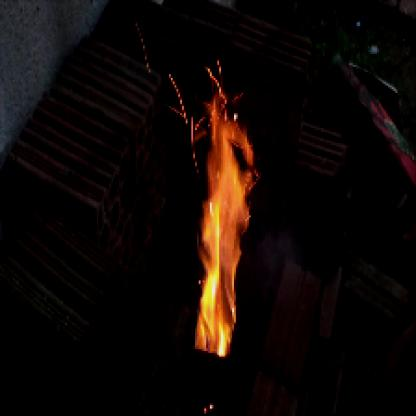Fire: (171, 58, 260, 356)
